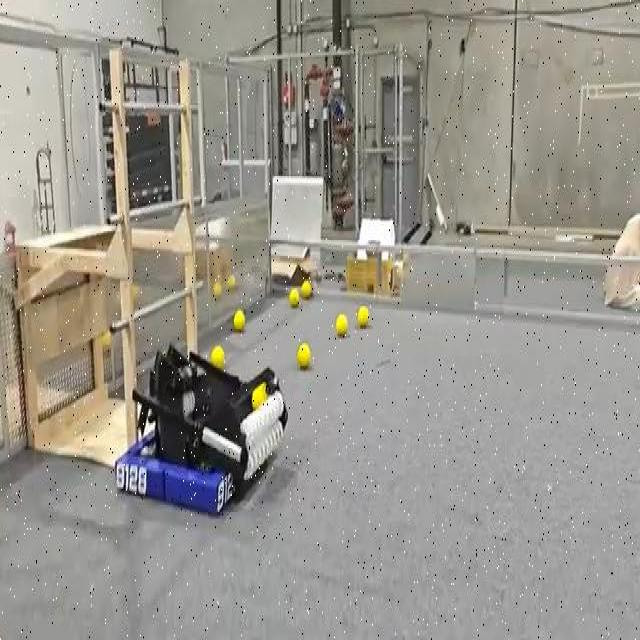Fuel: (251, 382, 268, 411), (251, 382, 267, 410), (297, 343, 310, 368), (335, 313, 348, 338), (210, 345, 224, 368), (233, 309, 245, 331), (233, 310, 245, 332), (301, 279, 313, 299), (357, 306, 368, 327), (289, 288, 299, 306), (301, 280, 311, 298), (212, 282, 223, 298), (101, 332, 111, 349), (100, 331, 111, 346), (213, 282, 222, 299), (227, 274, 236, 290), (227, 274, 235, 288)
